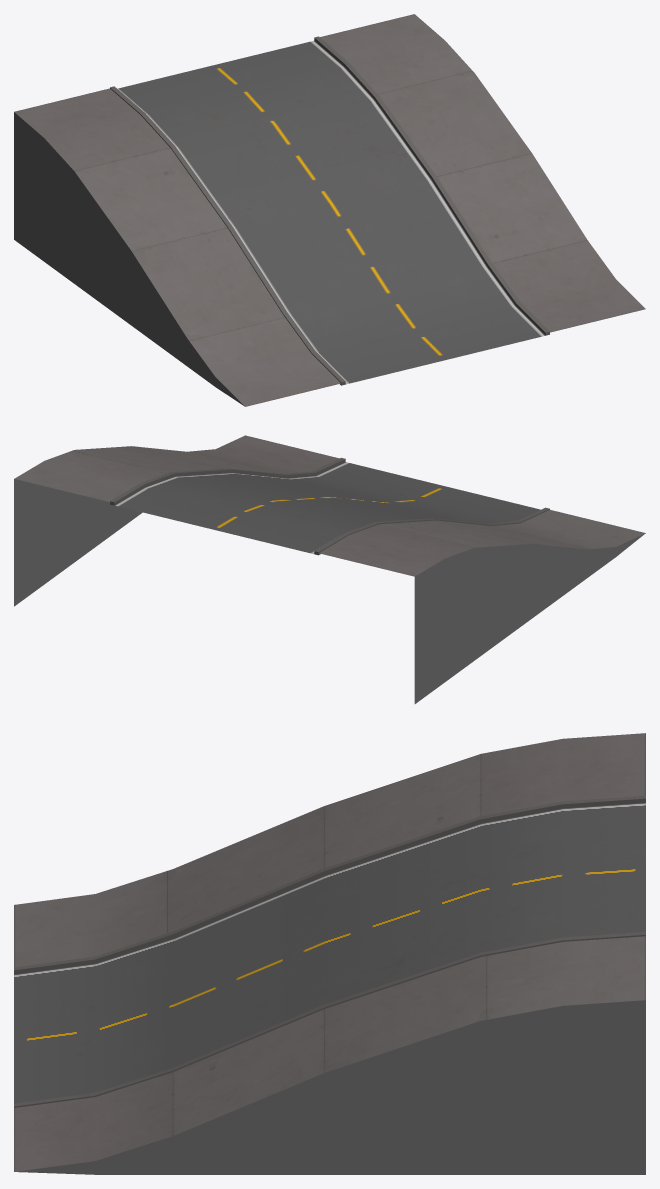
File: SM_Floor_Road_07.fbx
The picture shows the model from 3 angles, top to bottom: view 1: azimuth 30°, elevation 25°; view 2: azimuth 150°, elevation 25°; view 3: azimuth 270°, elevation 25°; orthographic projection. The views are drawn at different scales.
Visible parts, largest first — view 1: SM_Floor_Road_07; view 2: SM_Floor_Road_07; view 3: SM_Floor_Road_07.
Boxes of the visible parts, left/top/right/bottom form: SM_Floor_Road_07: left=14, top=14, right=645, bottom=406; SM_Floor_Road_07: left=14, top=435, right=645, bottom=703; SM_Floor_Road_07: left=14, top=733, right=645, bottom=1174.
Size of the model in its own units: 10 by 3.08 by 10.
